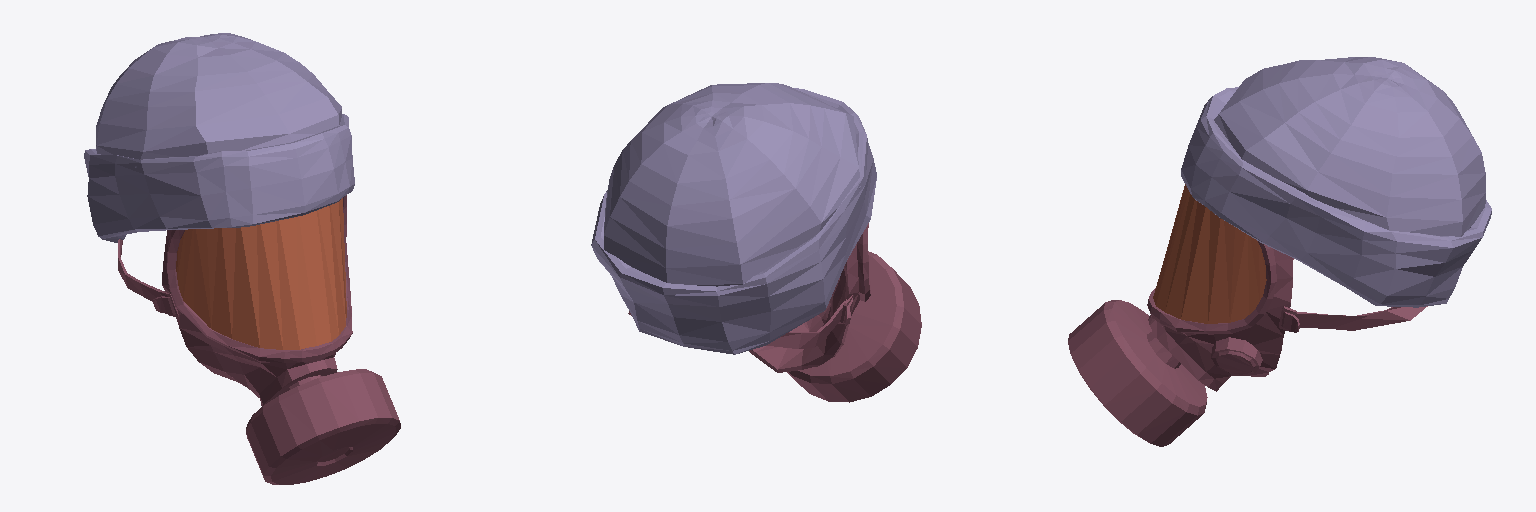
Rendered from hat02.obj.
The picture shows the model from 3 angles: view 1: azimuth 30°, elevation 25°; view 2: azimuth 150°, elevation 25°; view 3: azimuth 270°, elevation 25°; orthographic projection.
Visible parts, largest first — view 1: slav_hat_2; view 2: slav_hat_2; view 3: slav_hat_2.
Boxes of the visible parts, <box> form: slav_hat_2: <box>84,33,400,484</box>; slav_hat_2: <box>591,83,921,402</box>; slav_hat_2: <box>1068,57,1491,446</box>.
Size of the model in its own units: 8.39 by 13.2 by 13.78.